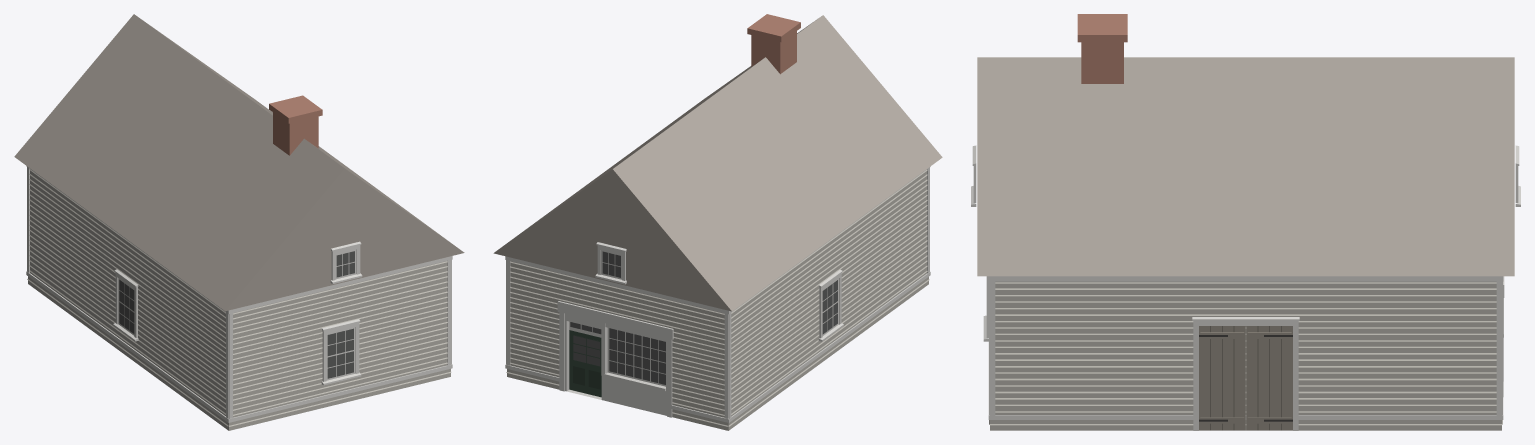
The model's file is recon_1835_core_c2_013__inferred_1835.glb.
3 renders of one model, left to right at view 1: azimuth 30°, elevation 25°; view 2: azimuth 150°, elevation 25°; view 3: azimuth 270°, elevation 25°, orthographic. The views are drawn at different scales.
Visible parts, largest first — view 1: recon_1835_core_c2_013__inferred_1835; view 2: recon_1835_core_c2_013__inferred_1835; view 3: recon_1835_core_c2_013__inferred_1835.
Part boxes in pixels (left/top/right/bottom): recon_1835_core_c2_013__inferred_1835: left=14, top=14, right=464, bottom=430; recon_1835_core_c2_013__inferred_1835: left=493, top=14, right=942, bottom=430; recon_1835_core_c2_013__inferred_1835: left=971, top=14, right=1520, bottom=430.
Size of the model in its own units: 6.92 by 7.31 by 10.81.
